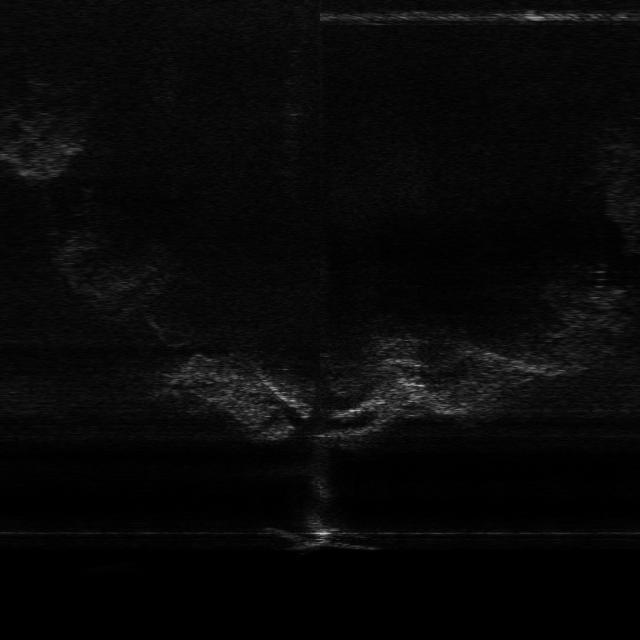plane: (260, 513, 382, 553)
